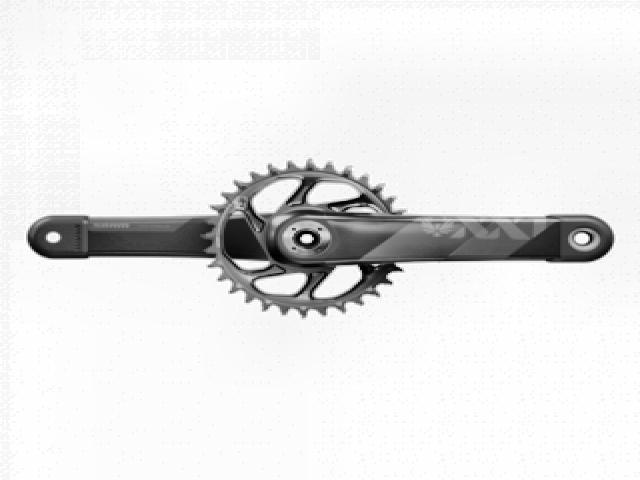cranks_set: (201, 157, 612, 314)
